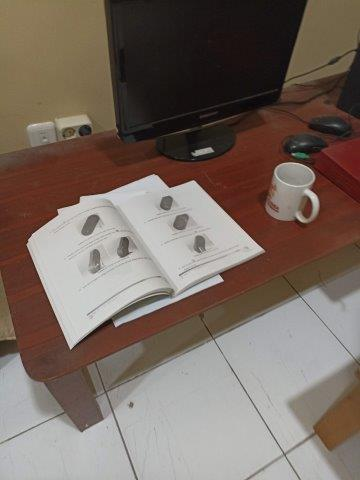kertas: (26, 174, 265, 349)
